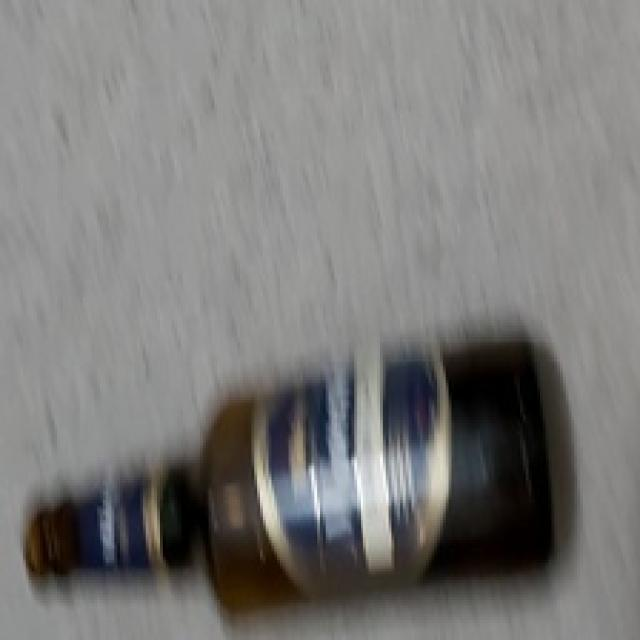Glass: (21, 332, 557, 624)
